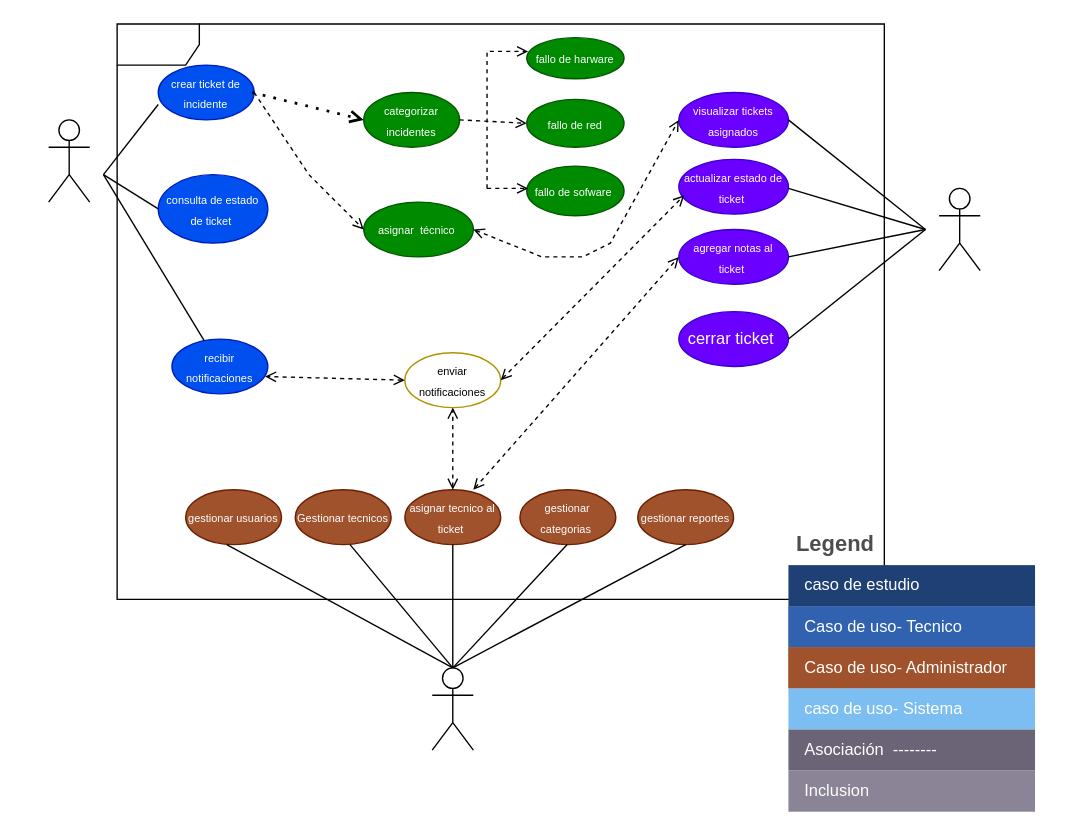
This 1077x836 diagram has some shape labels left out. Each missing label, with the centre of its shape:
"ADMINISTRADOR DE SISTEMA" goes at pixel 452 708.
"sistema help desk" goes at pixel 500 311.
"TECNICO DE SOPORTE" goes at pixel 959 229.
"Usuario final" goes at pixel 68 160.
